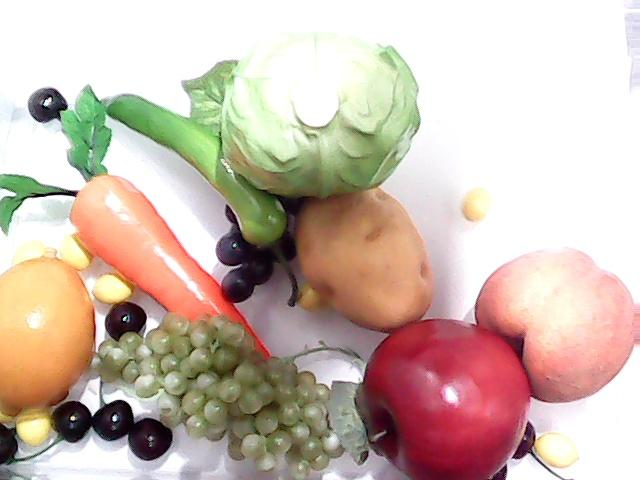apple: (350, 308, 538, 480)
cabbage: (219, 20, 421, 198)
carrot: (0, 84, 268, 356)
grape: (126, 328, 338, 480)
lemon: (0, 244, 104, 424)
peach: (474, 243, 640, 404)
pepper: (80, 83, 296, 251)
potato: (295, 179, 435, 334)
